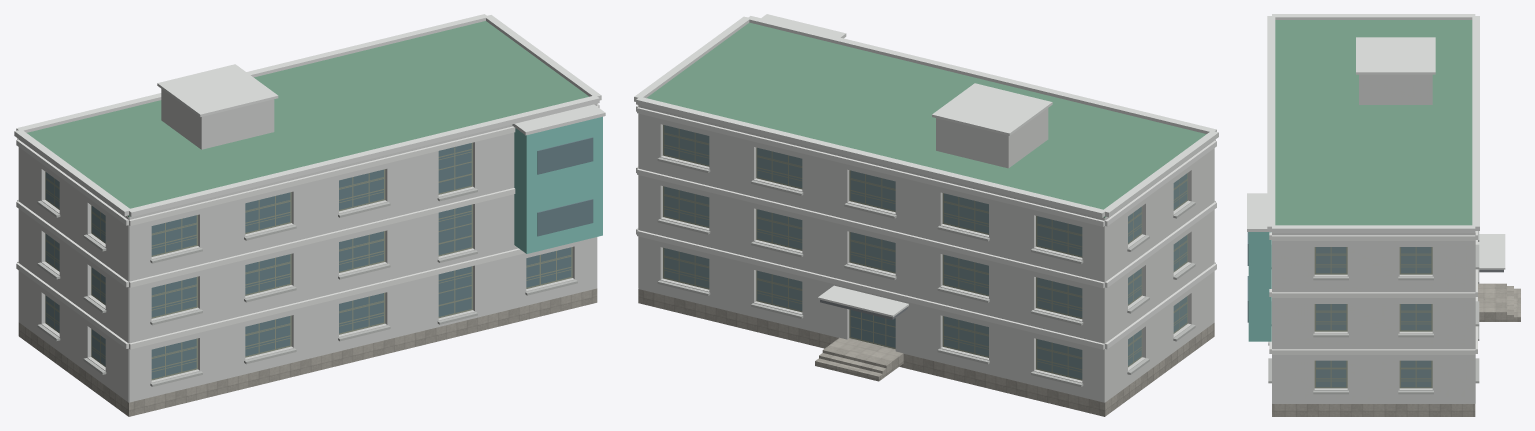
3 renders of one model, left to right at view 1: azimuth 30°, elevation 25°; view 2: azimuth 150°, elevation 25°; view 3: azimuth 270°, elevation 25°, orthographic. The views are drawn at different scales.
Parts seen in each view (by area): view 1: library-wing__panel, library-wing__roof, library-wing__glass, library-wing__cap, library-wing__band, library-wing__stone, library-wing__mint, library-wing__frame, library-wing__sill, library-wing__sideglass; view 2: library-wing__panel, library-wing__roof, library-wing__sideglass, library-wing__cap, library-wing__band, library-wing__frame, library-wing__stone, library-wing__sill, library-wing__stair-front, library-wing__glass, library-wing__threshold-front; view 3: library-wing__roof, library-wing__panel, library-wing__cap, library-wing__sideglass, library-wing__band, library-wing__stone, library-wing__mint, library-wing__frame, library-wing__sill, library-wing__threshold-front, library-wing__stair-front.
Boxes of the visible parts, <box> form: library-wing__panel: <box>18,89,597,402</box>; library-wing__roof: <box>27,21,588,216</box>; library-wing__glass: <box>151,137,593,378</box>; library-wing__cap: <box>14,14,605,217</box>; library-wing__band: <box>16,103,599,349</box>; library-wing__stone: <box>18,288,597,416</box>; library-wing__mint: <box>514,116,602,253</box>; library-wing__frame: <box>45,142,572,380</box>; library-wing__sill: <box>37,188,577,386</box>; library-wing__sideglass: <box>46,172,105,365</box>; library-wing__panel: <box>638,105,1214,402</box>; library-wing__roof: <box>646,22,1206,217</box>; library-wing__sideglass: <box>664,125,1187,379</box>; library-wing__cap: <box>634,14,1218,317</box>; library-wing__band: <box>636,105,1216,349</box>; library-wing__frame: <box>663,125,1187,380</box>; library-wing__stone: <box>638,289,1214,416</box>; library-wing__sill: <box>657,157,1195,386</box>; library-wing__stair-front: <box>815,347,890,381</box>; library-wing__glass: <box>850,310,895,347</box>; library-wing__threshold-front: <box>827,337,903,372</box>; library-wing__roof: <box>1275,20,1472,225</box>; library-wing__panel: <box>1272,74,1475,403</box>; library-wing__cap: <box>1247,14,1505,269</box>; library-wing__sideglass: <box>1316,247,1431,387</box>; library-wing__band: <box>1269,231,1477,354</box>; library-wing__stone: <box>1272,404,1475,416</box>; library-wing__mint: <box>1248,232,1271,341</box>; library-wing__frame: <box>1314,247,1432,388</box>; library-wing__sill: <box>1268,231,1479,394</box>; library-wing__threshold-front: <box>1478,283,1499,321</box>; library-wing__stair-front: <box>1500,283,1520,321</box>.
Bounding box in the file's own units: 27.5 × 13.24 × 14.82.
12 materials, 1 textured.
